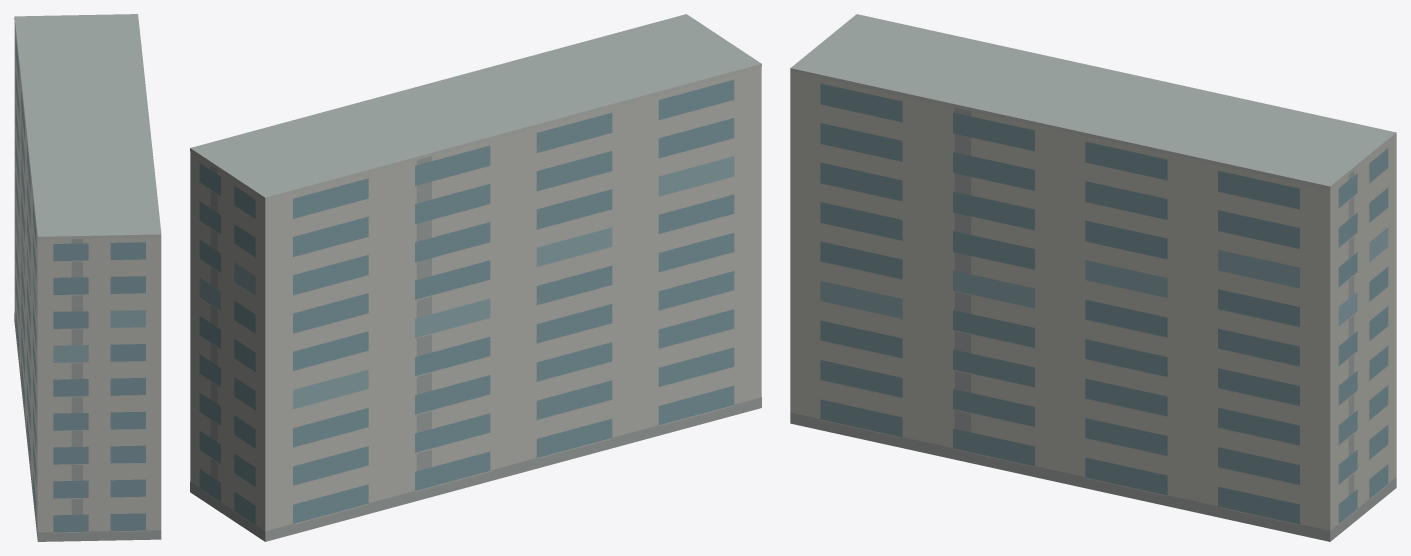
The model's file is residential-3ed91be0-b37d-4270-8d9d-9fffc6c8bac3.glb.
The picture shows the model from 3 angles, left to right: view 1: azimuth 30°, elevation 25°; view 2: azimuth 150°, elevation 25°; view 3: azimuth 270°, elevation 25°; orthographic projection. The views are drawn at different scales.
Parts seen in each view (by area): view 1: residential-3ed91be0-b37d-4270-8d9d-9fffc6c8bac3.tmp; view 2: residential-3ed91be0-b37d-4270-8d9d-9fffc6c8bac3.tmp; view 3: residential-3ed91be0-b37d-4270-8d9d-9fffc6c8bac3.tmp.
Part boxes in pixels (x1=…): residential-3ed91be0-b37d-4270-8d9d-9fffc6c8bac3.tmp: x1=14, y1=14, x2=161, y2=541; residential-3ed91be0-b37d-4270-8d9d-9fffc6c8bac3.tmp: x1=190, y1=14, x2=761, y2=541; residential-3ed91be0-b37d-4270-8d9d-9fffc6c8bac3.tmp: x1=790, y1=14, x2=1396, y2=541.
Bounding box in the file's own units: 26.03 × 25 × 38.65.
